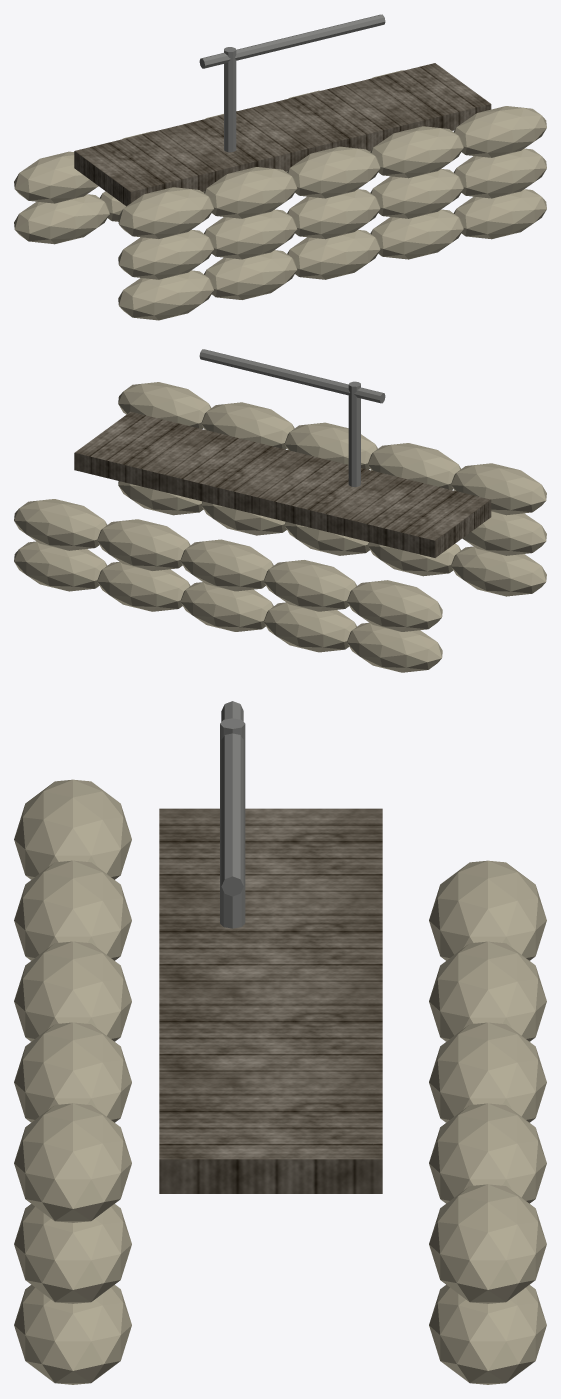
The model's file is mg_nest_holz_sand.glb.
3 views of the same model, one above another, from view 1: azimuth 30°, elevation 25°; view 2: azimuth 150°, elevation 25°; view 3: azimuth 270°, elevation 25° (orthographic). The views are drawn at different scales.
Parts seen in each view (by area): view 1: mg_nest_holz_sand_025, mg_nest_holz_sand_002, mg_nest_holz_sand_014, mg_nest_holz_sand_008, mg_nest_holz_sand_011, mg_nest_holz_sand_005, mg_nest_holz_sand_001, mg_nest_holz_sand_015, mg_nest_holz_sand_000, mg_nest_holz_sand_012, mg_nest_holz_sand_013, mg_nest_holz_sand_006 (+9 smaller); view 2: mg_nest_holz_sand_025, mg_nest_holz_sand_016, mg_nest_holz_sand_024, mg_nest_holz_sand_020, mg_nest_holz_sand_022, mg_nest_holz_sand_018, mg_nest_holz_sand_000, mg_nest_holz_sand_015, mg_nest_holz_sand_002, mg_nest_holz_sand_023, mg_nest_holz_sand_021, mg_nest_holz_sand_017 (+12 smaller); view 3: mg_nest_holz_sand_025, mg_nest_holz_sand_014, mg_nest_holz_sand_024, mg_nest_holz_sand_012, mg_nest_holz_sand_023, mg_nest_holz_sand_013, mg_nest_holz_sand_005, mg_nest_holz_sand_018, mg_nest_holz_sand_002, mg_nest_holz_sand_008, mg_nest_holz_sand_016, mg_nest_holz_sand_022 (+4 smaller).
Boxes of the visible parts, x1,y1,x2,y2 form: mg_nest_holz_sand_025: [74, 63, 491, 206]; mg_nest_holz_sand_002: [118, 187, 213, 238]; mg_nest_holz_sand_014: [454, 106, 546, 157]; mg_nest_holz_sand_008: [287, 146, 380, 198]; mg_nest_holz_sand_011: [370, 126, 463, 178]; mg_nest_holz_sand_005: [204, 167, 297, 218]; mg_nest_holz_sand_001: [118, 229, 213, 279]; mg_nest_holz_sand_015: [14, 194, 109, 244]; mg_nest_holz_sand_000: [118, 270, 213, 320]; mg_nest_holz_sand_012: [453, 189, 546, 239]; mg_nest_holz_sand_013: [453, 148, 546, 198]; mg_nest_holz_sand_006: [287, 230, 380, 279]; mg_nest_holz_sand_025: [74, 411, 491, 557]; mg_nest_holz_sand_016: [347, 580, 442, 631]; mg_nest_holz_sand_024: [14, 499, 107, 550]; mg_nest_holz_sand_020: [180, 539, 273, 591]; mg_nest_holz_sand_022: [97, 519, 190, 570]; mg_nest_holz_sand_018: [263, 560, 356, 611]; mg_nest_holz_sand_000: [451, 546, 546, 596]; mg_nest_holz_sand_015: [347, 622, 442, 672]; mg_nest_holz_sand_002: [451, 463, 546, 515]; mg_nest_holz_sand_023: [14, 541, 107, 591]; mg_nest_holz_sand_021: [97, 561, 190, 611]; mg_nest_holz_sand_017: [263, 602, 356, 652]; mg_nest_holz_sand_025: [159, 808, 382, 1193]; mg_nest_holz_sand_014: [14, 1103, 131, 1222]; mg_nest_holz_sand_024: [429, 1184, 546, 1303]; mg_nest_holz_sand_012: [14, 1284, 131, 1384]; mg_nest_holz_sand_023: [429, 1284, 546, 1384]; mg_nest_holz_sand_013: [14, 1203, 131, 1303]; mg_nest_holz_sand_005: [14, 860, 131, 960]; mg_nest_holz_sand_018: [429, 941, 546, 1041]; mg_nest_holz_sand_002: [14, 779, 131, 879]; mg_nest_holz_sand_008: [14, 941, 131, 1041]; mg_nest_holz_sand_016: [429, 860, 546, 960]; mg_nest_holz_sand_022: [429, 1103, 546, 1203].
Bounding box in the file's own units: 3.08 × 1.46 × 1.67.
1 material, 1 textured.
